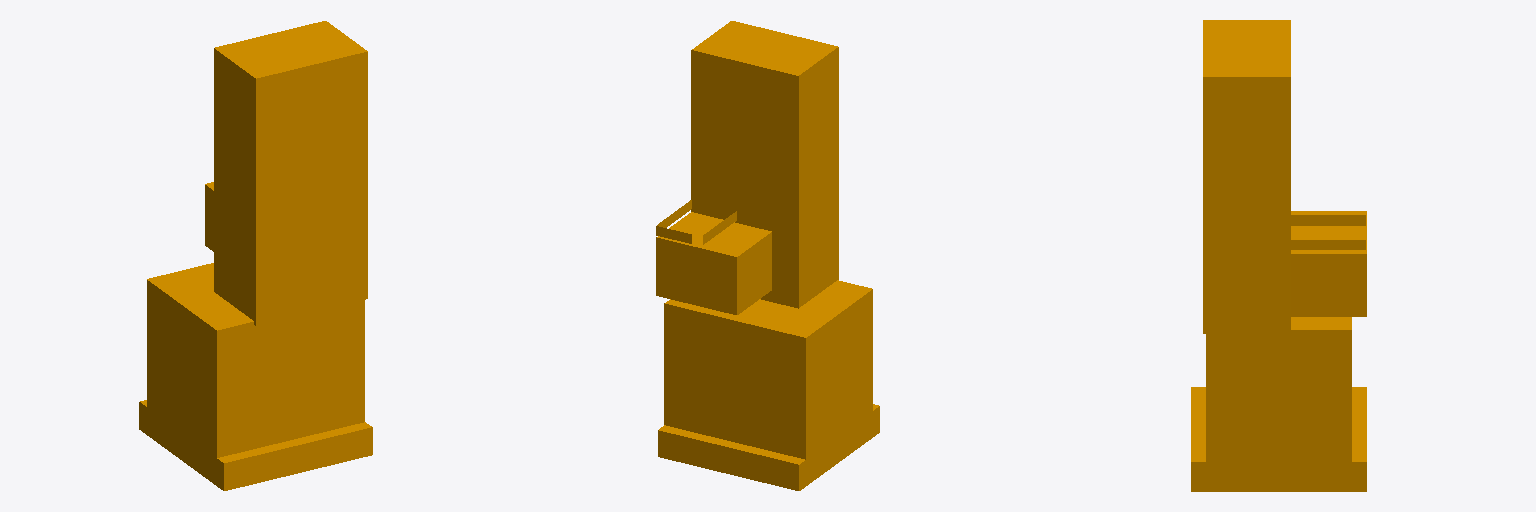
URDF robot description (engine1):
<?xml version="1.0"?>
<robot name="engine1">
	<link name="engine1">
		<inertial>
			<!--origin xyz="0 0 0" rpy="0 0 0" /-->
			<mass value="0.5" />
			<!--inertia ixx="0.000360" ixy="0" ixz="0" iyy="0.0000615" iyz="0" izz="0.00036" /-->
		</inertial>
    		<visual>
	      		<!--origin rpy="0 0 0" xyz="0 0 0"/-->
      			<geometry>
        			<mesh filename="engine1.obj"/>
      			</geometry>
         	</visual>
    		<collision>
      			<!--origin rpy="0 0 0" xyz="0 0 0"/-->
      			<geometry>
        			<mesh filename="engine1.obj"/>
      			</geometry>
    		</collision>
	</link>
</robot>

--- Render facts (derived) ---
3 views of the same robot in one strip: view 1: azimuth 30°, elevation 25°; view 2: azimuth 150°, elevation 25°; view 3: azimuth 270°, elevation 25° (orthographic).
Robot: engine1 — 1 links, 0 joints (none); root link engine1; default pose: every joint at zero.
Visible links, largest first — view 1: engine1; view 2: engine1; view 3: engine1.
Boxes of the visible links, <box> form: engine1: <box>139,21,372,490</box>; engine1: <box>656,21,879,490</box>; engine1: <box>1191,20,1366,491</box>.
Bounding box of the posed robot: 0.615 × 0.608 × 1.56 m (x, y, z).
Meshes: 1 distinct files referenced, 1 mesh visuals loaded (1 OBJ).